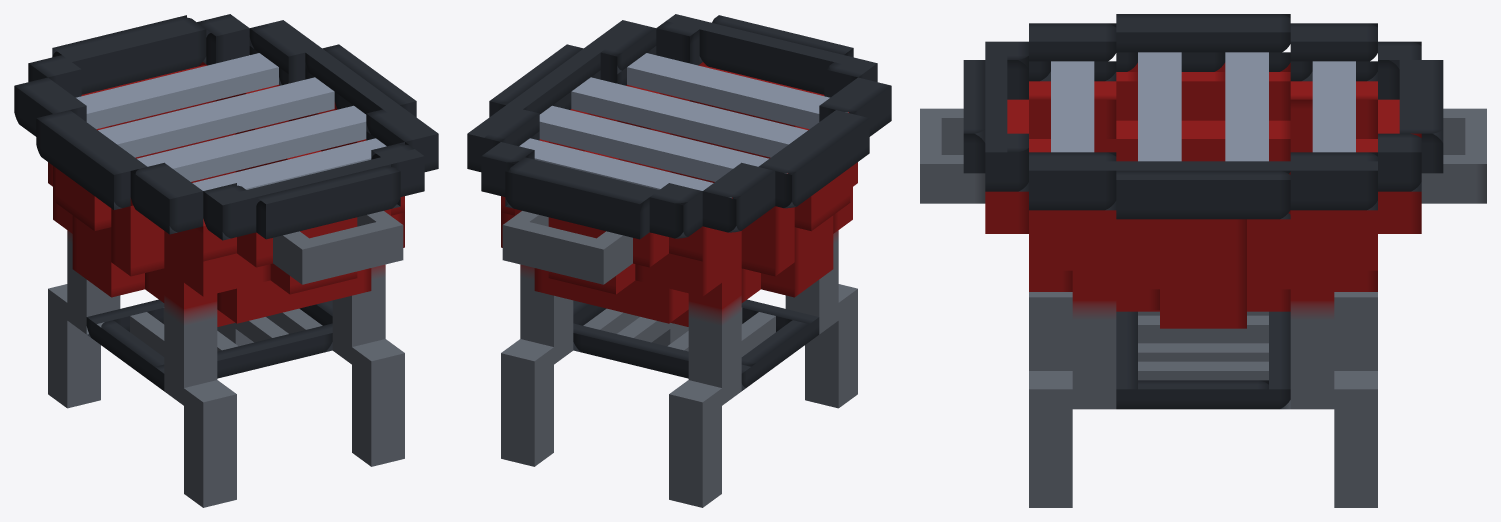
Rendered from Grill.dae.
3 renders of one model, left to right at view 1: azimuth 30°, elevation 25°; view 2: azimuth 150°, elevation 25°; view 3: azimuth 270°, elevation 25°, orthographic. The views are drawn at different scales.
Parts seen in each view (by area): view 1: Grill; view 2: Grill; view 3: Grill.
Part boxes in pixels (x1,y1,x2,y2): Grill: (14,14,438,507); Grill: (467,14,891,507); Grill: (920,14,1486,507).
Size of the model in its own units: 18 by 18 by 26.
Materials: 1 (1 with a texture image).
